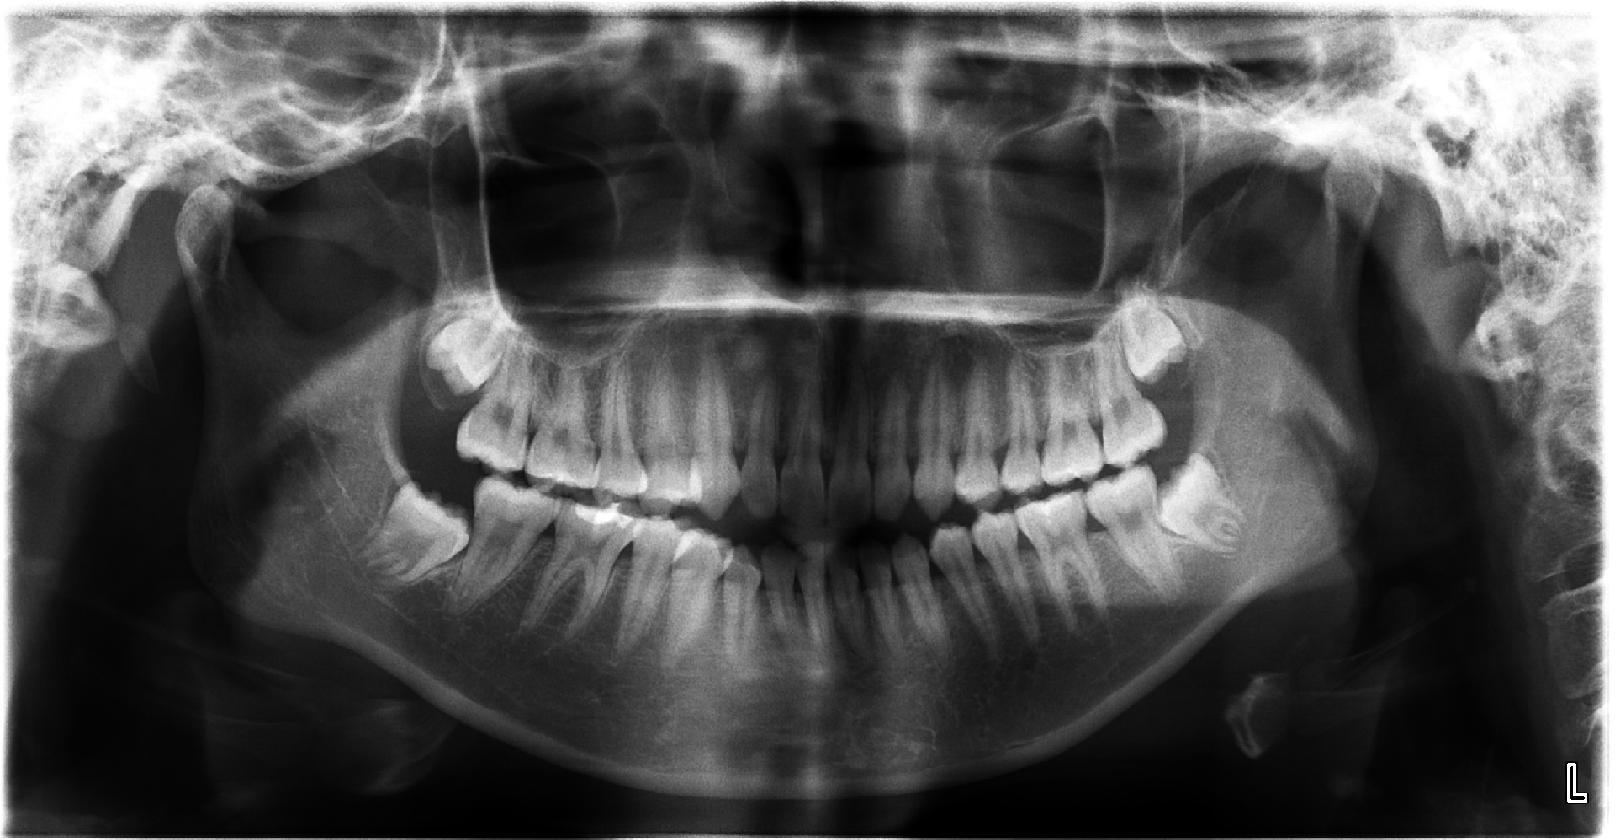Mesio-angular: (1159, 448, 1268, 559), (367, 484, 475, 592)
